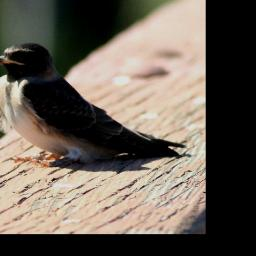Swallow: (0, 42, 189, 169)
